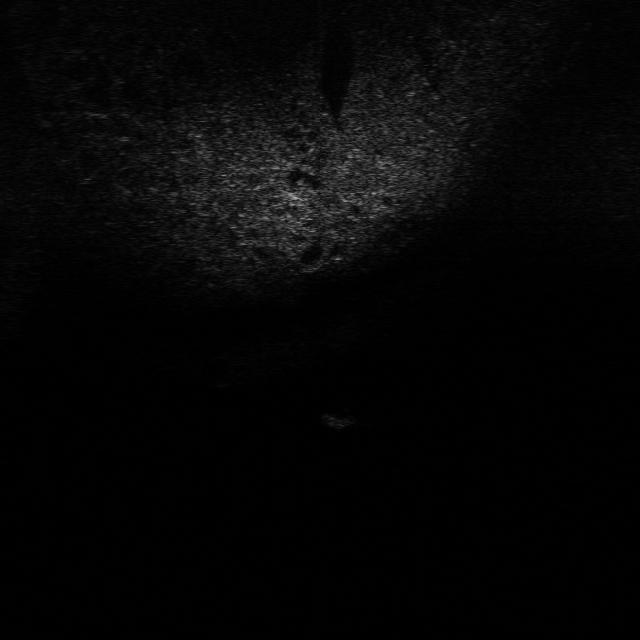cube: (310, 398, 360, 429)
